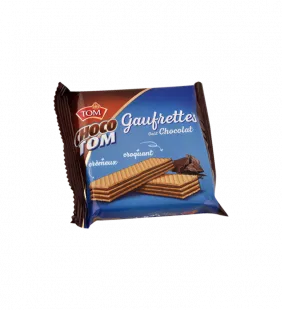CHOCOTOM: (45, 75, 236, 236)
